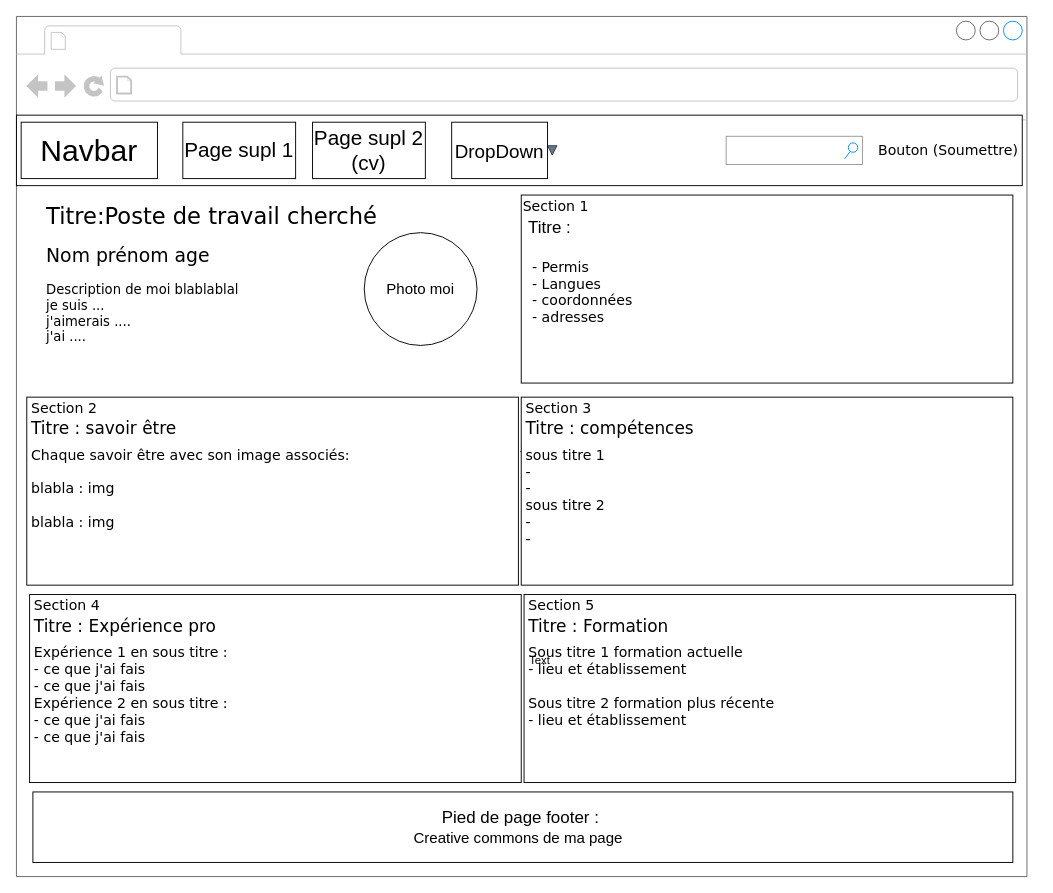
This 1053x893 diagram has some shape labels left out. The shapes that lost their labels are listed below. From the top down, each one's box as (x1, y1, x2, y2) in pixels, then its label:
(72, 27, 176, 52): Page 3 : cv
(138, 72, 374, 97): http://127.0.0.1:8000/cv
(725, 135, 862, 164): Nom entreprise
